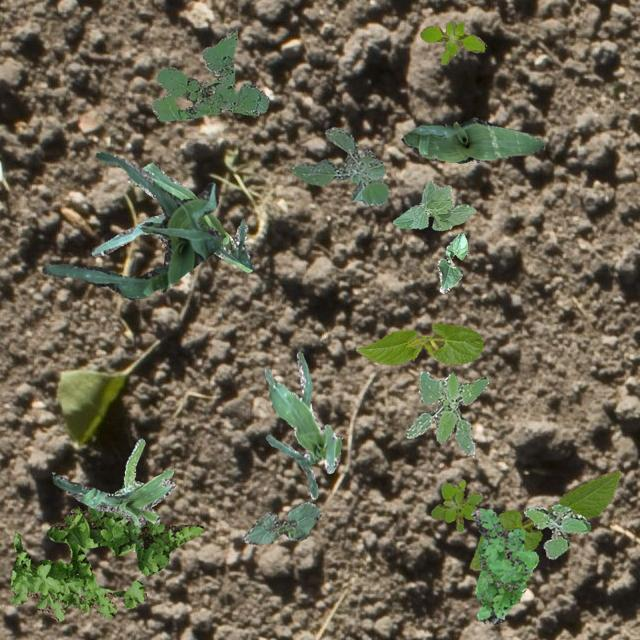crop: (42, 150, 220, 298), (90, 162, 252, 270), (470, 469, 620, 568), (262, 348, 340, 498), (52, 468, 175, 526), (401, 116, 544, 162), (356, 322, 482, 366), (392, 180, 476, 230), (242, 501, 321, 544), (437, 232, 468, 292)
weed: (9, 504, 202, 620), (150, 29, 268, 120), (470, 506, 538, 624), (289, 126, 386, 204), (406, 370, 488, 456), (522, 504, 590, 558), (108, 438, 144, 524), (419, 20, 484, 64), (429, 478, 482, 530)
